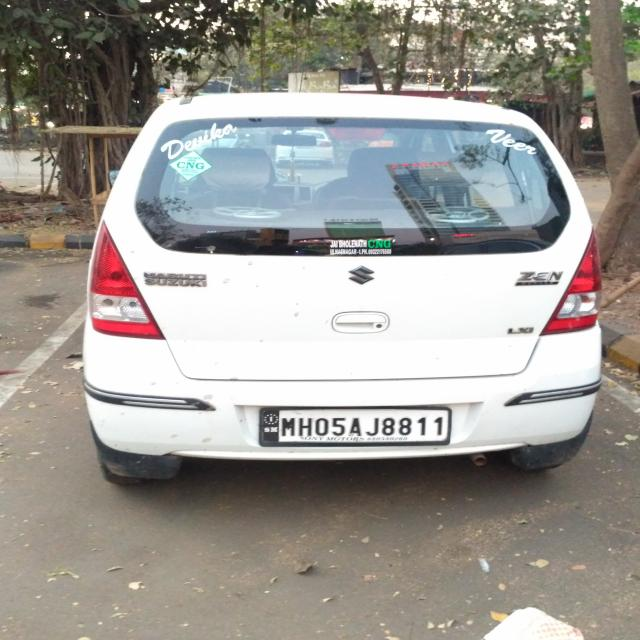Number-Plate: (265, 408, 451, 446)
